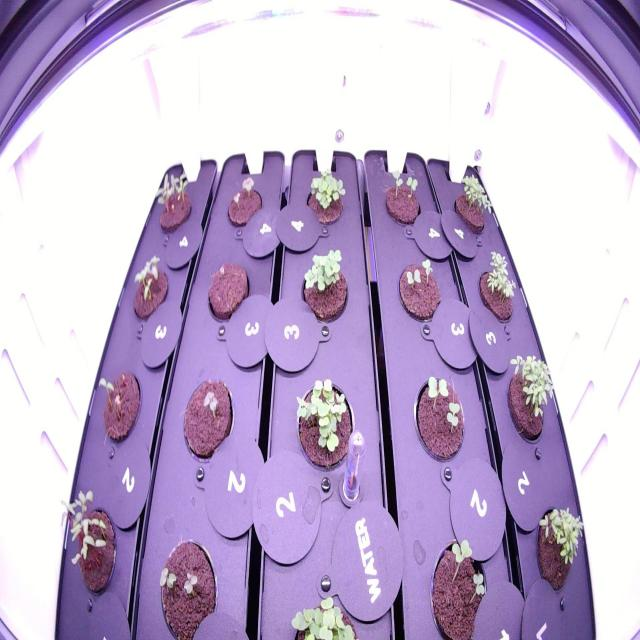germination: (422, 527, 497, 639), (288, 370, 360, 481), (56, 483, 123, 602), (154, 532, 223, 638), (410, 371, 470, 475), (529, 494, 587, 600), (500, 347, 559, 450), (178, 369, 238, 470), (294, 243, 352, 330), (91, 366, 146, 446), (392, 248, 444, 328), (202, 253, 254, 329), (476, 246, 521, 332), (147, 161, 195, 238), (128, 247, 174, 327), (449, 169, 498, 241), (302, 164, 351, 230), (378, 165, 426, 228), (219, 170, 265, 233)
